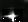person: (3, 10, 24, 22)
